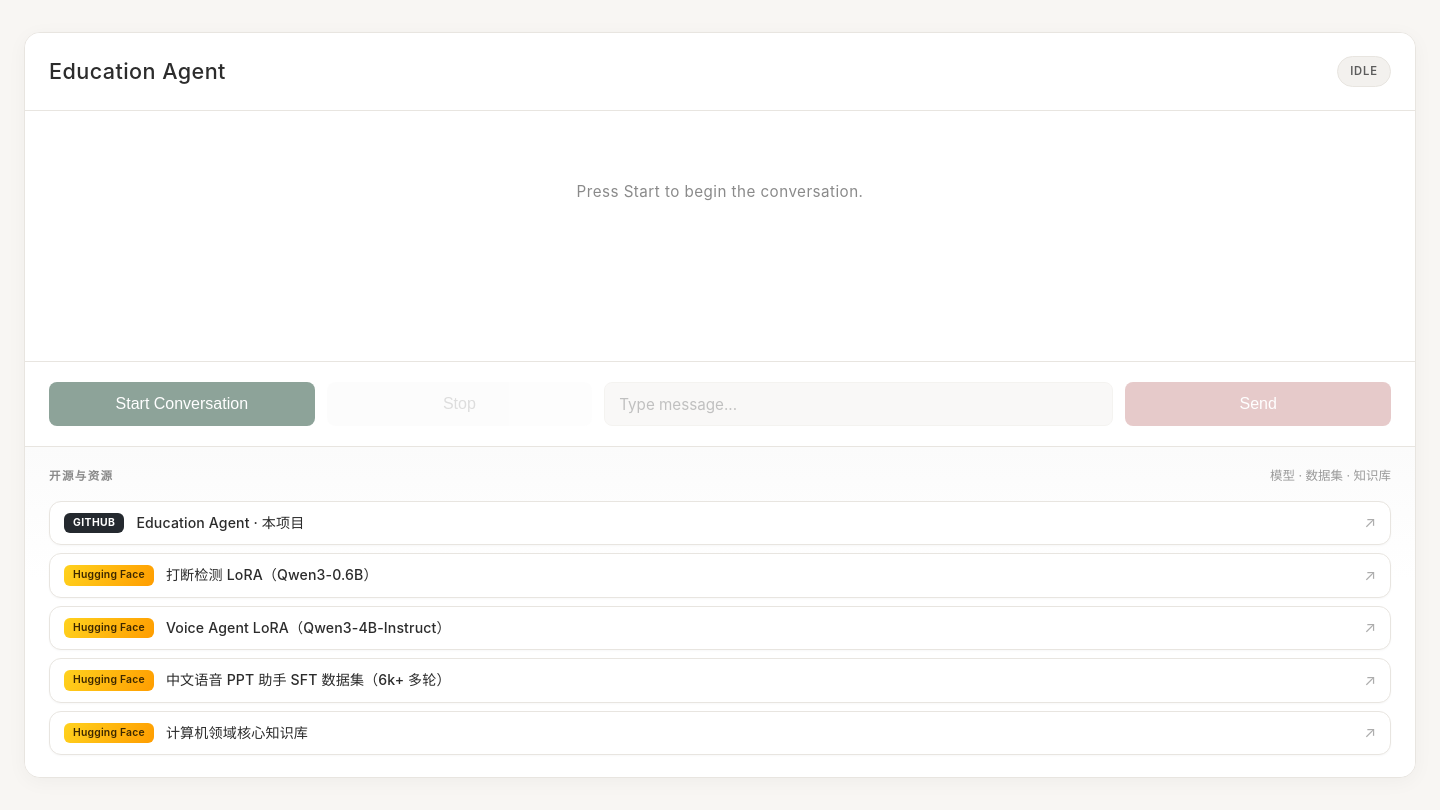
Test: Chat › starts conversation and shows listening status
This screenshot has width=1440, height=810.
Click the button with test id "start-btn" at (182, 404), box top-left (49, 382), bottom-right (315, 426)
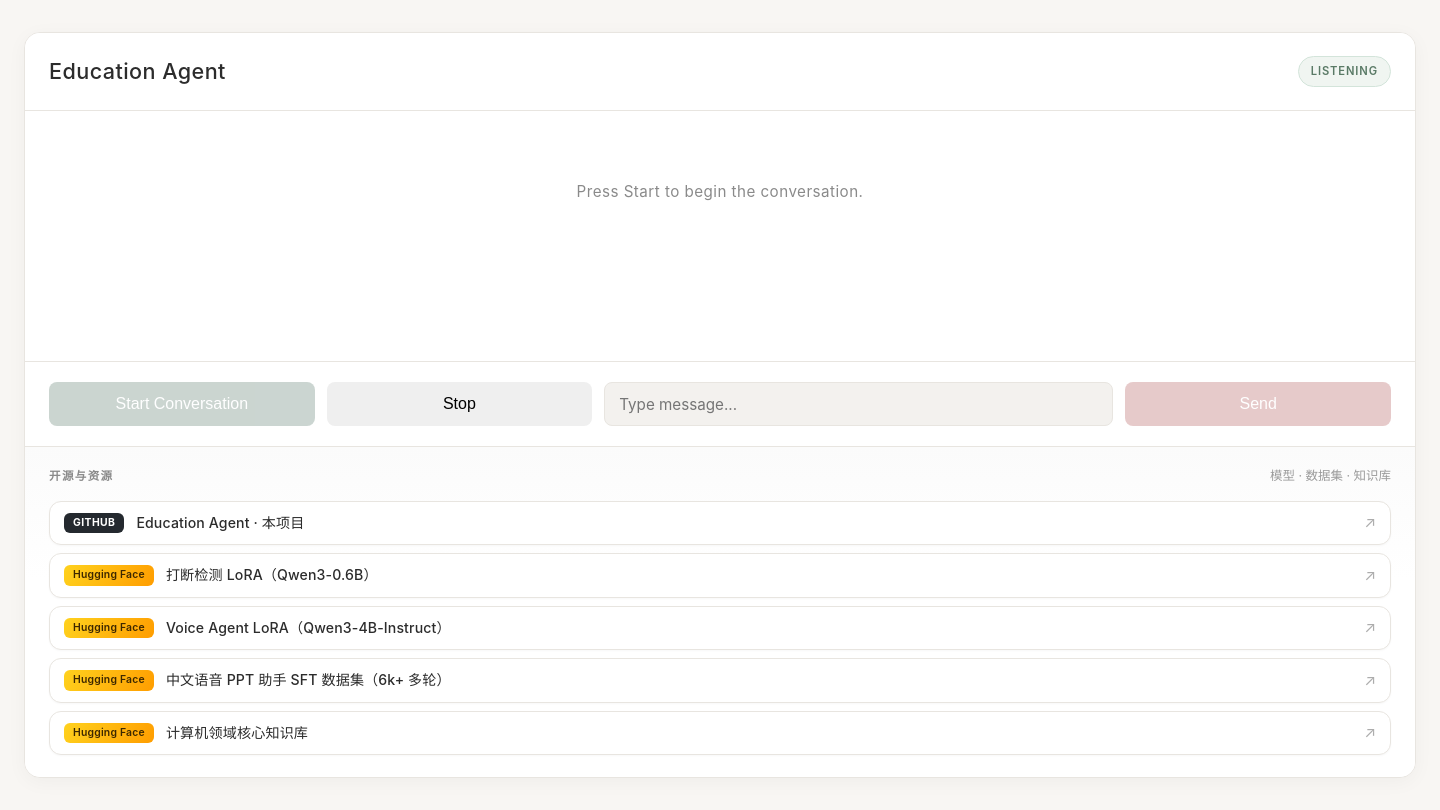
Expected: the text with test id "status-badge" reads "listening", top-left (1311, 64), bottom-right (1378, 78)
